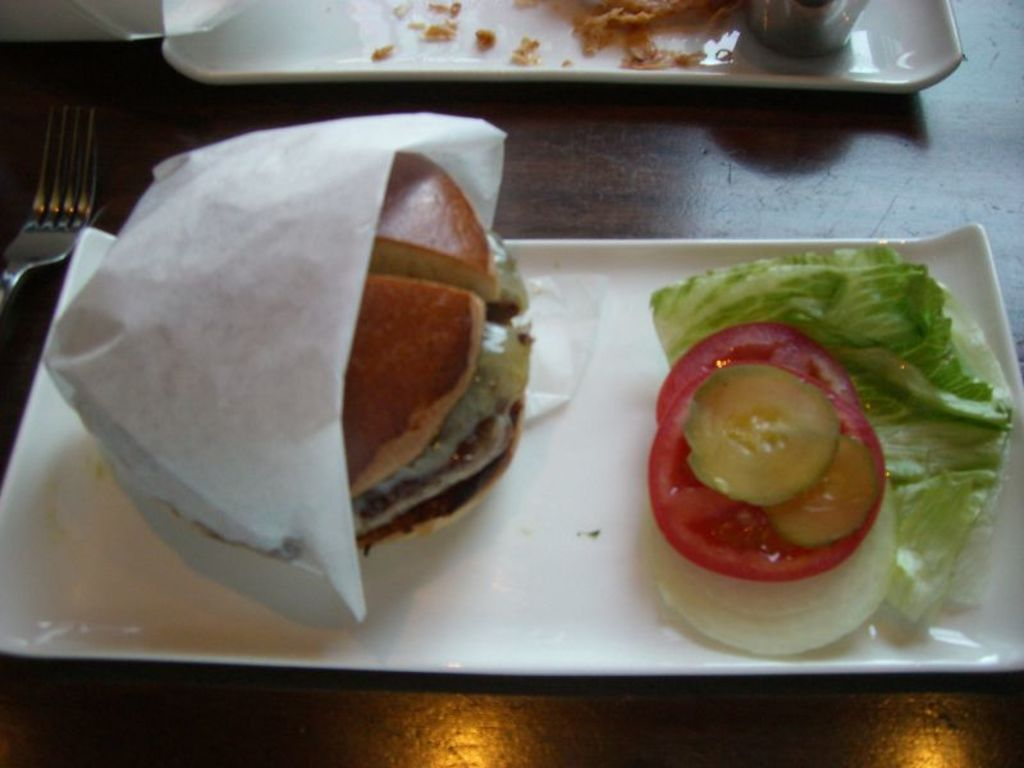Tomato: (647, 358, 884, 583), (647, 323, 852, 427)
